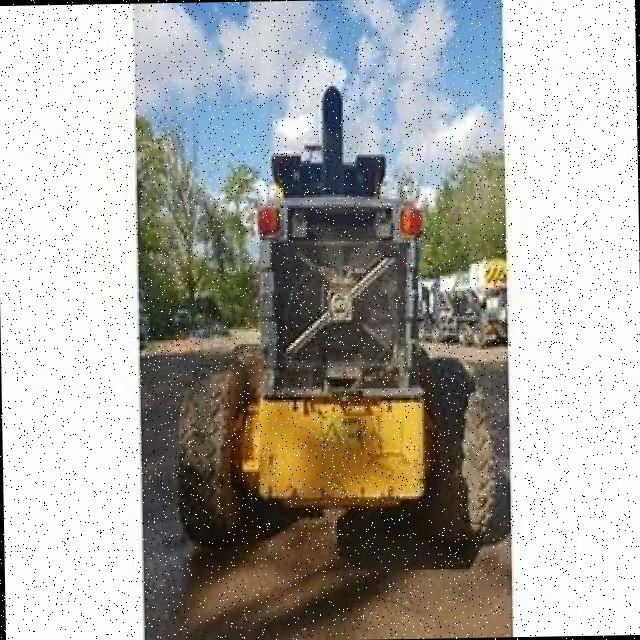Grader: (170, 83, 492, 550)
